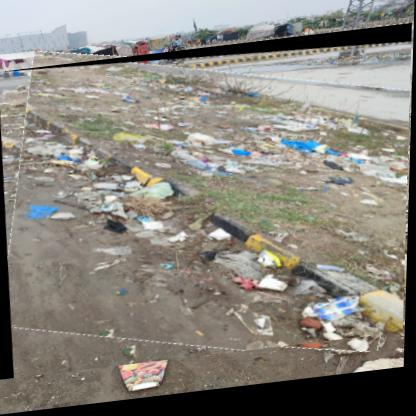Garbage: (1, 34, 414, 383)
